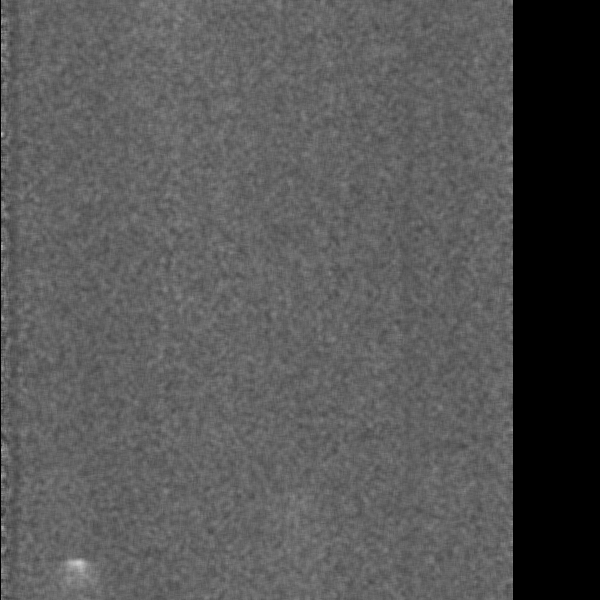spark: (55, 554, 96, 590)
